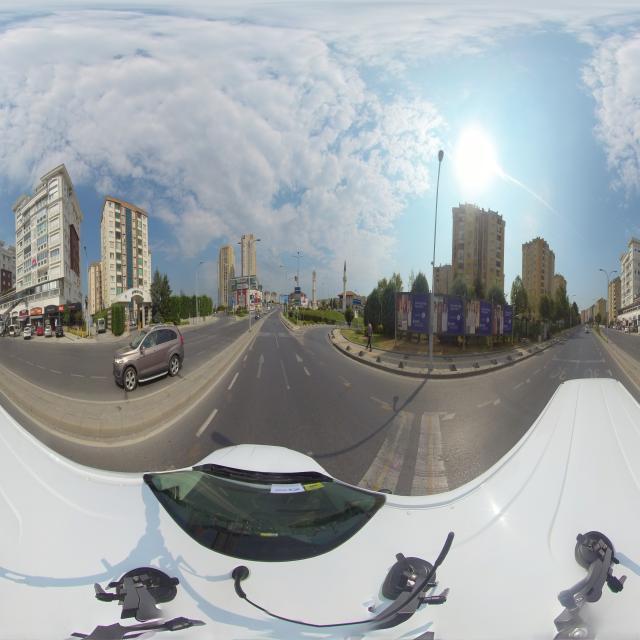SignStore: (47, 305, 64, 312), (30, 308, 42, 315), (20, 310, 28, 316)
